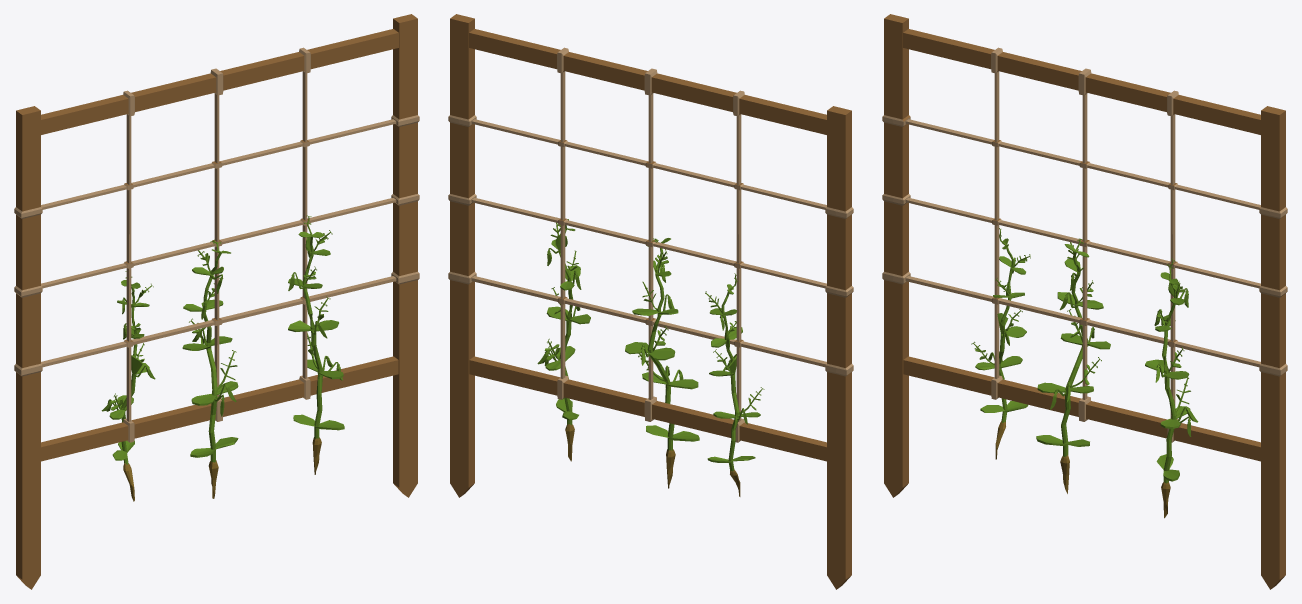
File: mod_Pea_Half.fbx
The picture shows the model from 3 angles, left to right: view 1: azimuth 30°, elevation 25°; view 2: azimuth 150°, elevation 25°; view 3: azimuth 330°, elevation 25°; orthographic projection.
Parts seen in each view (by area): view 1: PeaTrellis, PeaVine, PeaVine.001, PeaVine.002; view 2: PeaTrellis, PeaVine, PeaVine.001, PeaVine.002; view 3: PeaTrellis, PeaVine, PeaVine.001, PeaVine.002.
Boxes of the visible parts, x1,y1,x2,y2 form: PeaTrellis: (14, 14, 419, 589); PeaVine: (182, 239, 238, 498); PeaVine.001: (288, 215, 344, 474); PeaVine.002: (101, 271, 155, 501); PeaTrellis: (448, 14, 853, 589); PeaVine: (625, 238, 699, 488); PeaVine.001: (537, 219, 590, 461); PeaVine.002: (705, 273, 764, 496); PeaTrellis: (882, 14, 1287, 589); PeaVine: (1036, 238, 1110, 493); PeaVine.001: (1145, 258, 1198, 518); PeaVine.002: (971, 228, 1030, 459).
Size of the model in its own units: 478 by 547 by 79.1.
